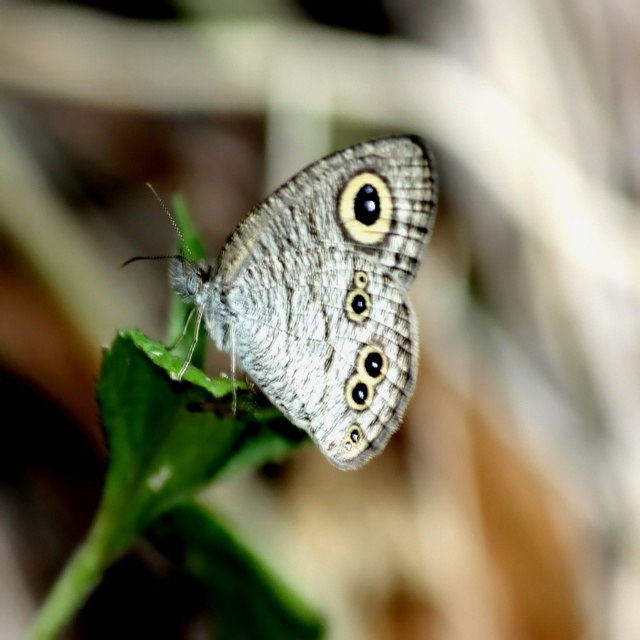Butterfly: (107, 141, 439, 474)
